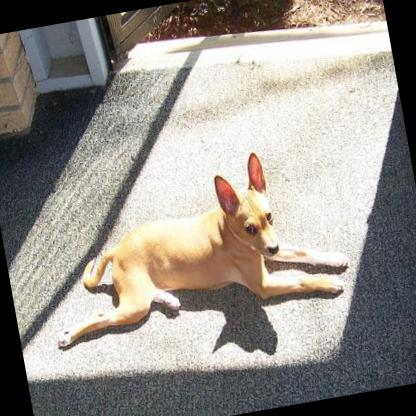basenji: (29, 136, 355, 351)
